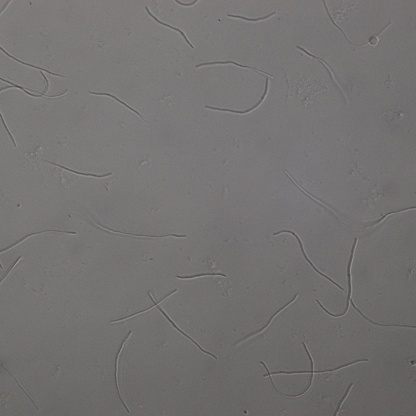Sensitive: (316, 236, 416, 329), (112, 286, 217, 361), (257, 340, 369, 398), (196, 59, 273, 116), (273, 228, 343, 289), (285, 170, 350, 226), (1, 47, 68, 101), (235, 295, 297, 349), (321, 1, 391, 46), (299, 45, 349, 102), (87, 216, 187, 241), (1, 228, 77, 255), (146, 7, 193, 48), (110, 329, 133, 412), (39, 159, 113, 181), (88, 88, 142, 117), (362, 206, 416, 230), (176, 268, 226, 284), (226, 11, 276, 22), (1, 256, 20, 284)
